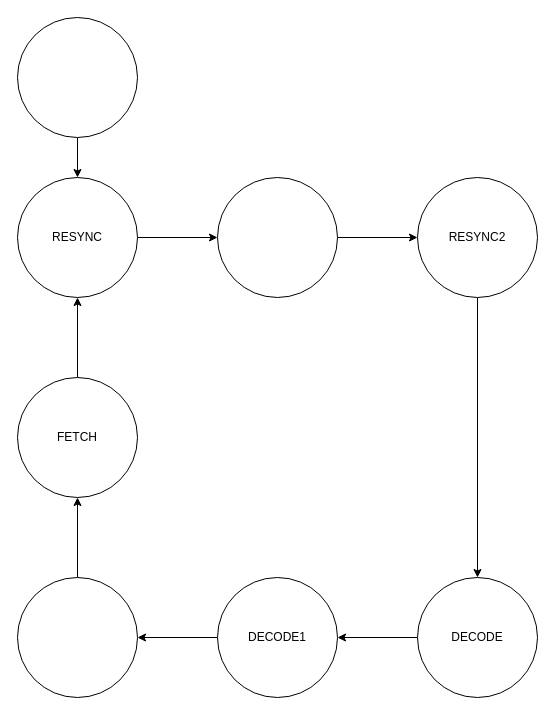
Some shapes in this 555 by 715 pixel diagram are drawn without their labels. The shapes that lost their labels are listed below. From the top down, each one's centre as x and y in pixels, then its label:
At (x=77, y=77): "IDLE".
At (x=277, y=237): "RESYNC1".
At (x=77, y=637): "EXECUTE".
